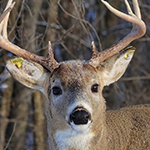deer: (2, 2, 146, 146)
